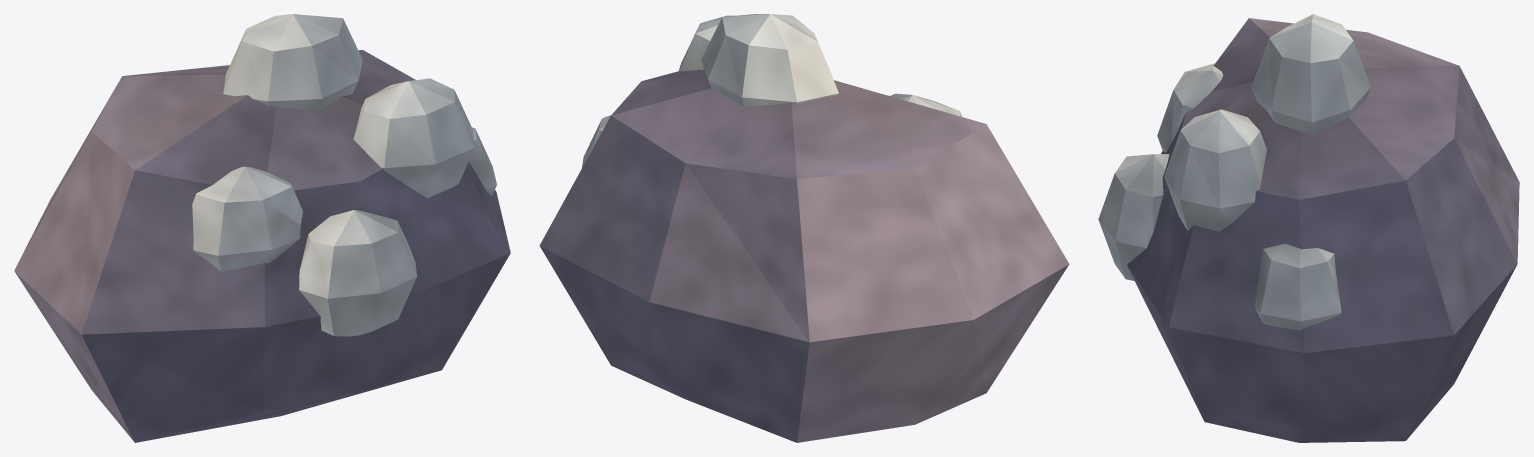
The model's file is resource_silver.glb.
3 views of the same model, side by side, from view 1: azimuth 30°, elevation 25°; view 2: azimuth 150°, elevation 25°; view 3: azimuth 270°, elevation 25° (orthographic). The views are drawn at different scales.
Parts seen in each view (by area): view 1: Silberadern im Schiefer; view 2: Silberadern im Schiefer; view 3: Silberadern im Schiefer.
Boxes of the visible parts, box(x1,y1,x2,y2) form: Silberadern im Schiefer: box(14, 14, 510, 442); Silberadern im Schiefer: box(539, 14, 1069, 442); Silberadern im Schiefer: box(1098, 14, 1519, 442).
Bounding box in the file's own units: 1.48 × 1.22 × 1.15.
1 material, 1 textured.
